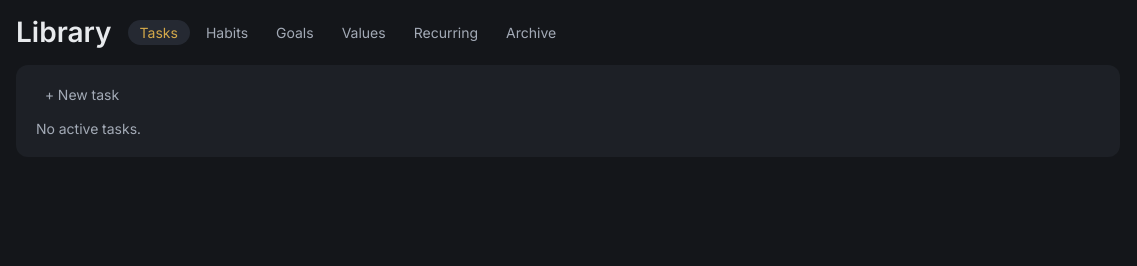
Scenario: Library archive tab grouping › groups archived tasks into done and not done
What coordinates should you click on to do the following:
click the tab "Archive"
I would click on:
 (531, 32)
Its box is 494,20 -> 568,44.
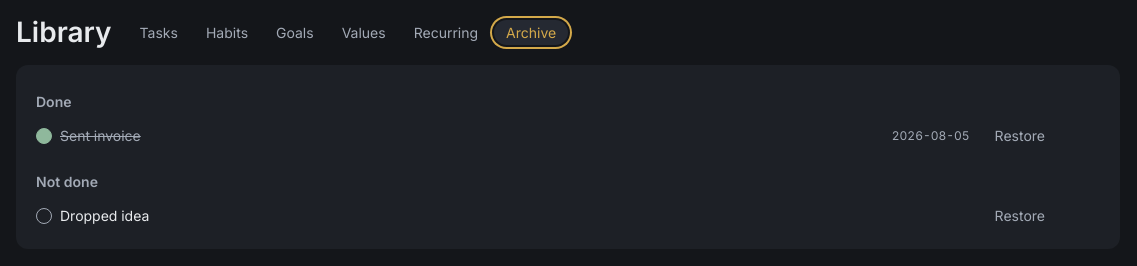
Expected: the button "Sent invoice" is shown, 60,127 -> 884,144
Expected: the text "2026-08-05" is shown, 892,128 -> 970,143
Expected: the button "Dropped idea" is shown, 60,207 -> 962,224
